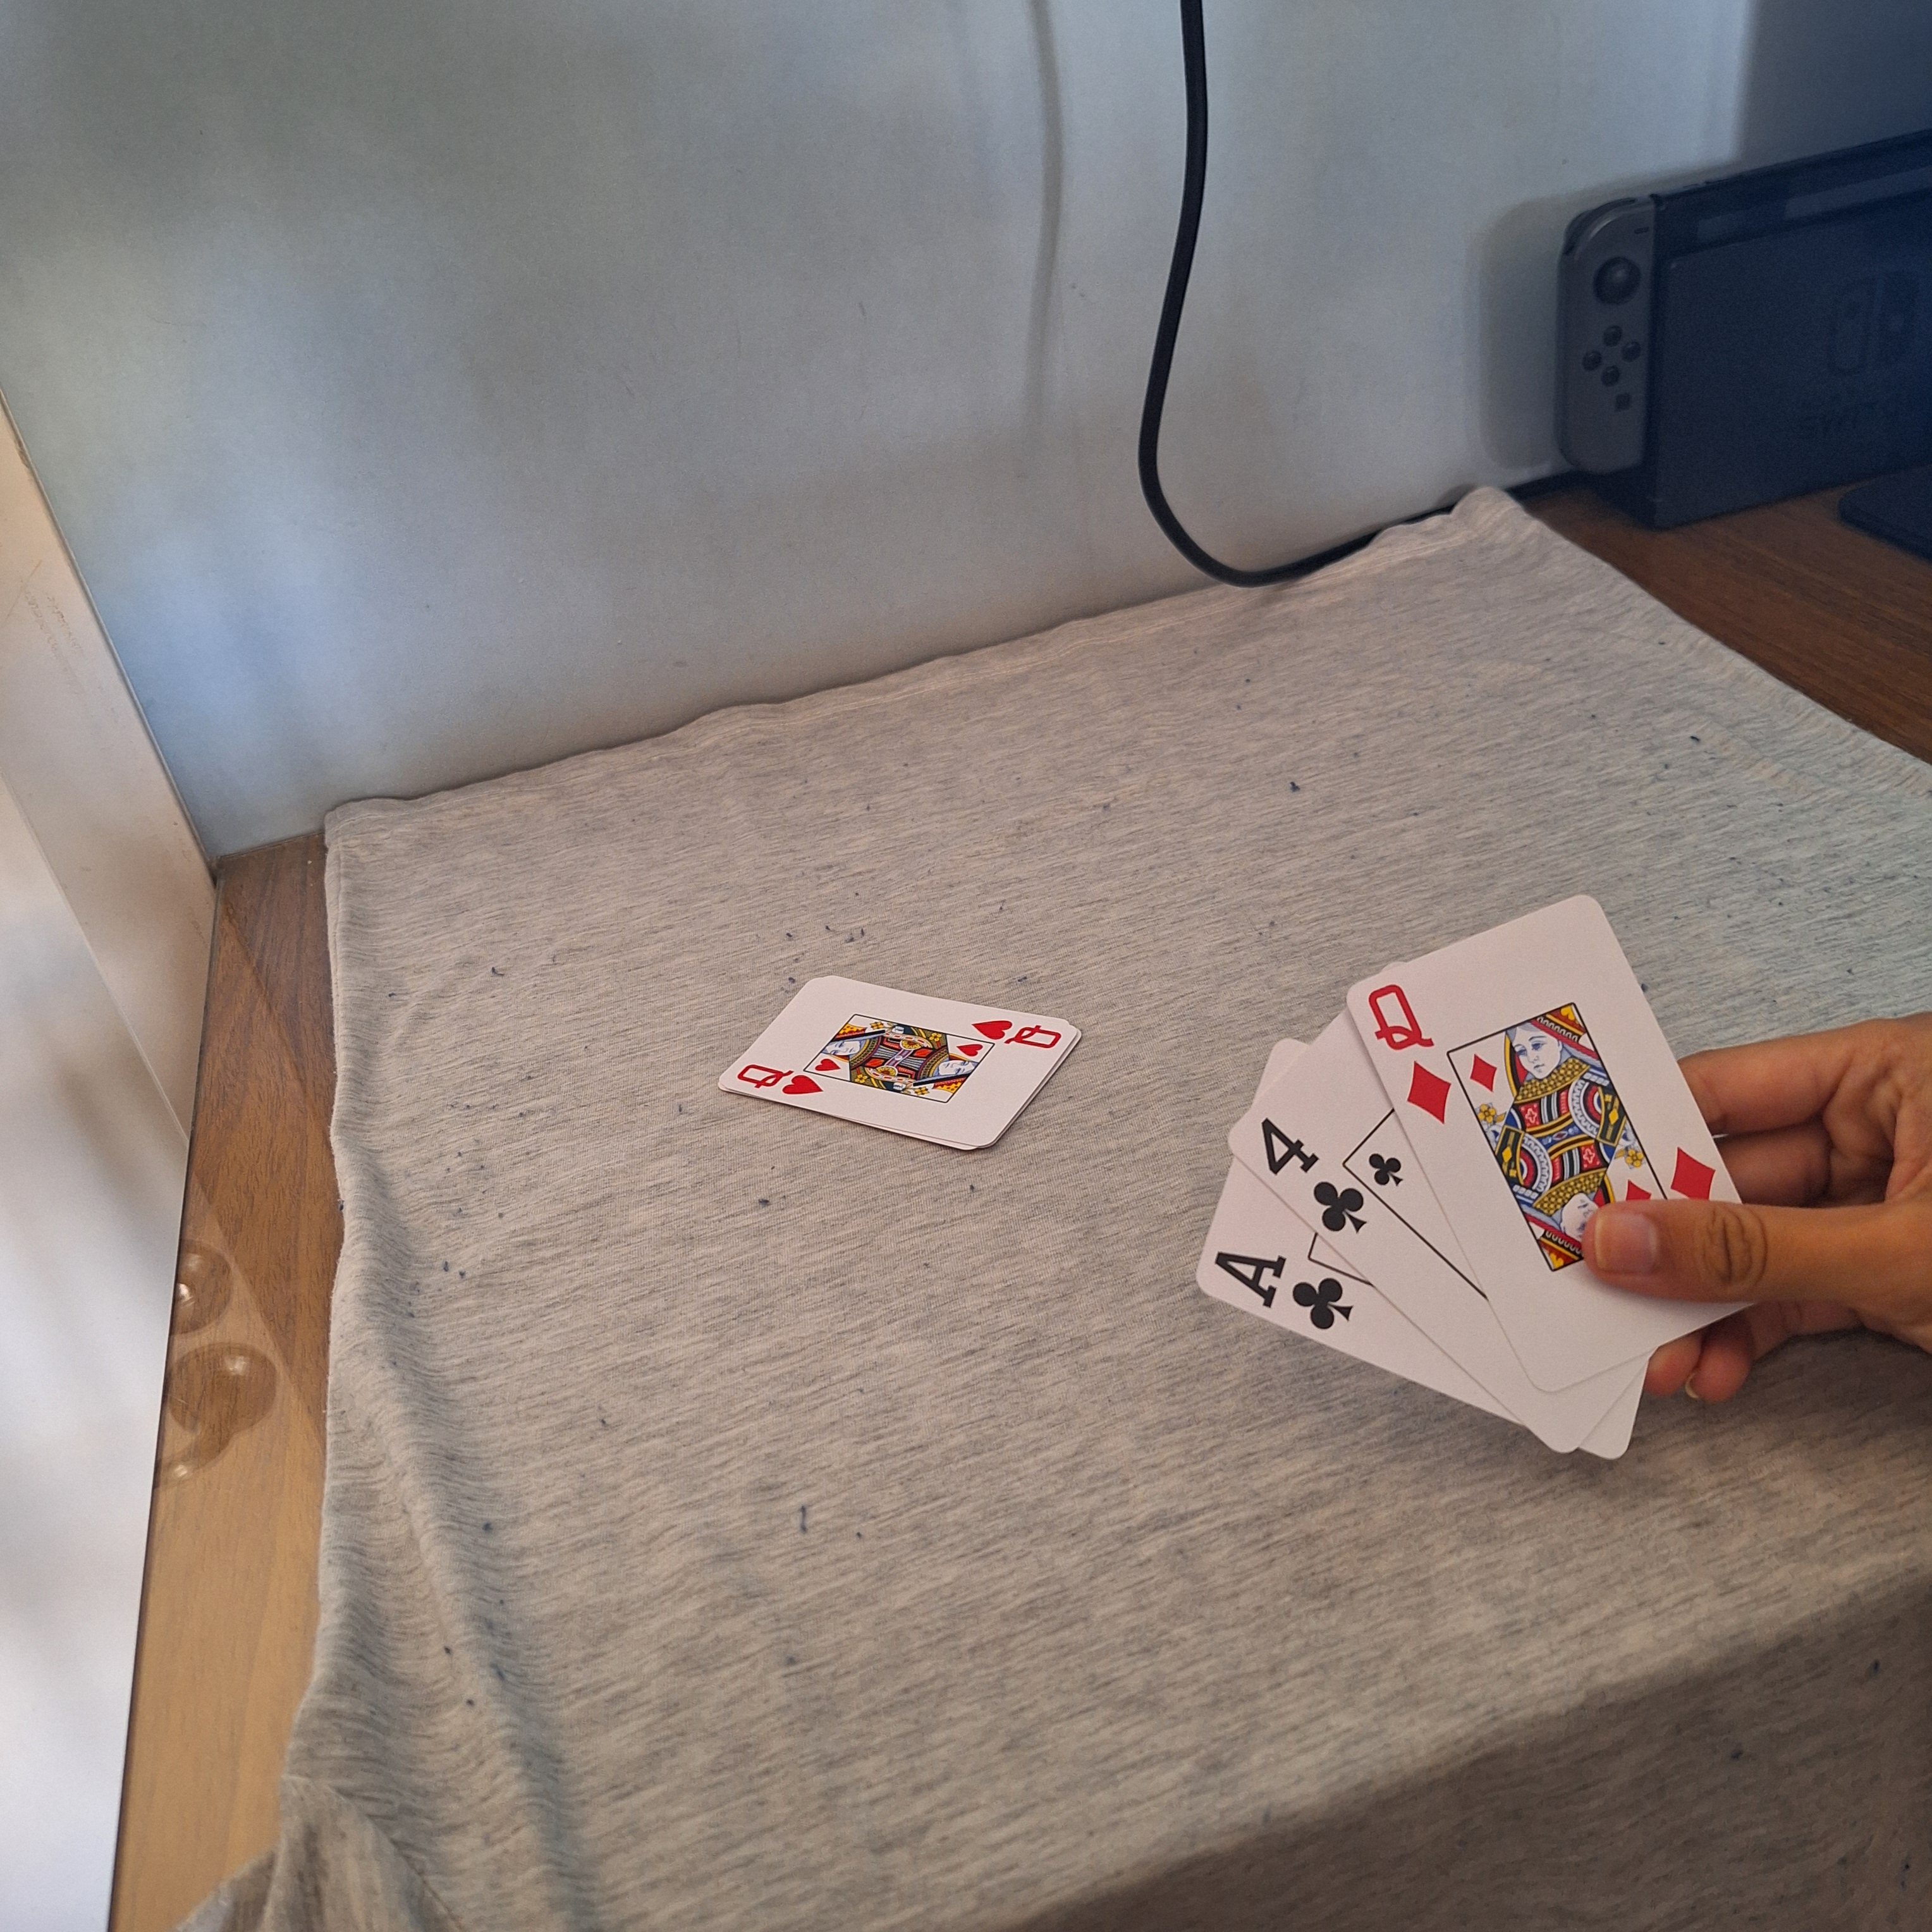4P: (1260, 1113, 1368, 1238)
AP: (1210, 1247, 1357, 1334)
QC: (736, 1062, 824, 1100), (970, 1017, 1063, 1051)
QO: (1364, 982, 1460, 1127)
